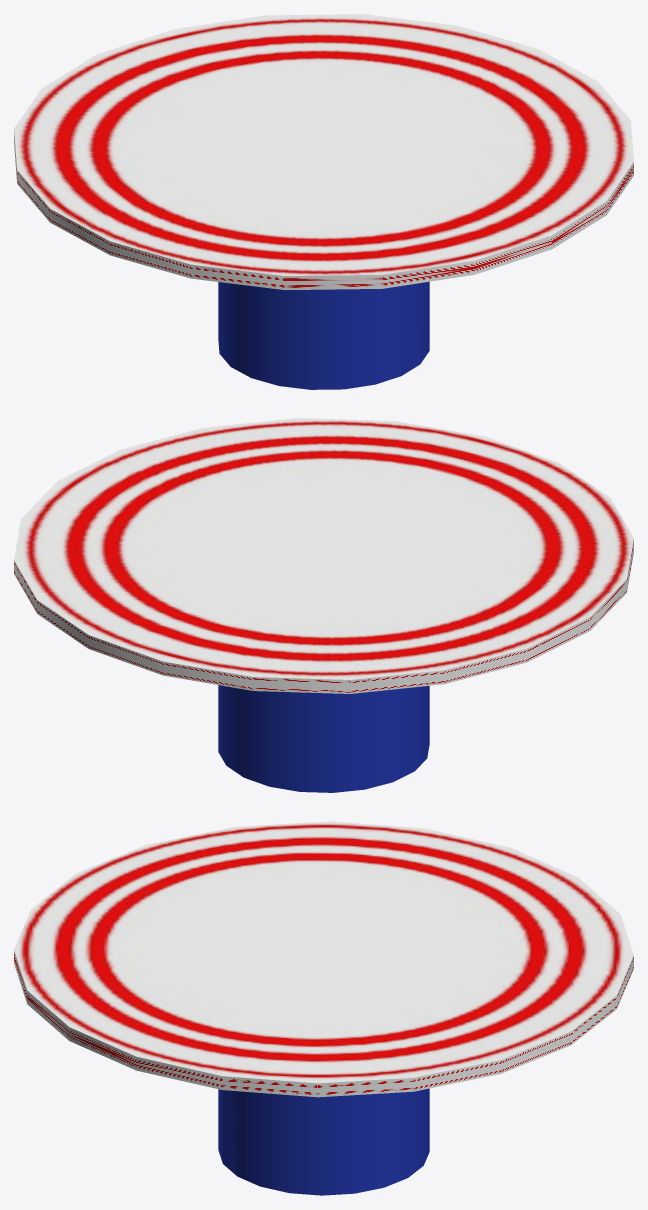
File: basebumper.obj
3 views of the same model, one above another, from view 1: azimuth 30°, elevation 25°; view 2: azimuth 150°, elevation 25°; view 3: azimuth 270°, elevation 25° (orthographic).
Visible parts, largest first — view 1: PinballNuevo:BumperCentral_lambert9SG1; view 2: PinballNuevo:BumperCentral_lambert9SG1; view 3: PinballNuevo:BumperCentral_lambert9SG1.
Boxes of the visible parts, left/top/right/bottom form: PinballNuevo:BumperCentral_lambert9SG1: left=14, top=14, right=633, bottom=389; PinballNuevo:BumperCentral_lambert9SG1: left=14, top=418, right=633, bottom=792; PinballNuevo:BumperCentral_lambert9SG1: left=14, top=821, right=633, bottom=1195.
Size of the model in its own units: 1.17 by 0.4129 by 1.17.
Materials: 2 (2 with a texture image).
